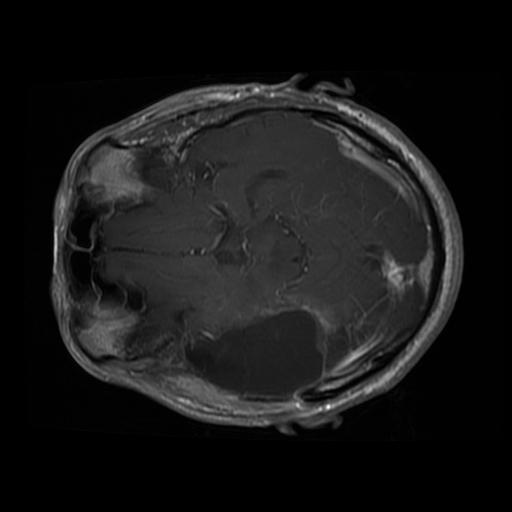glioma: (182, 304, 324, 399)
